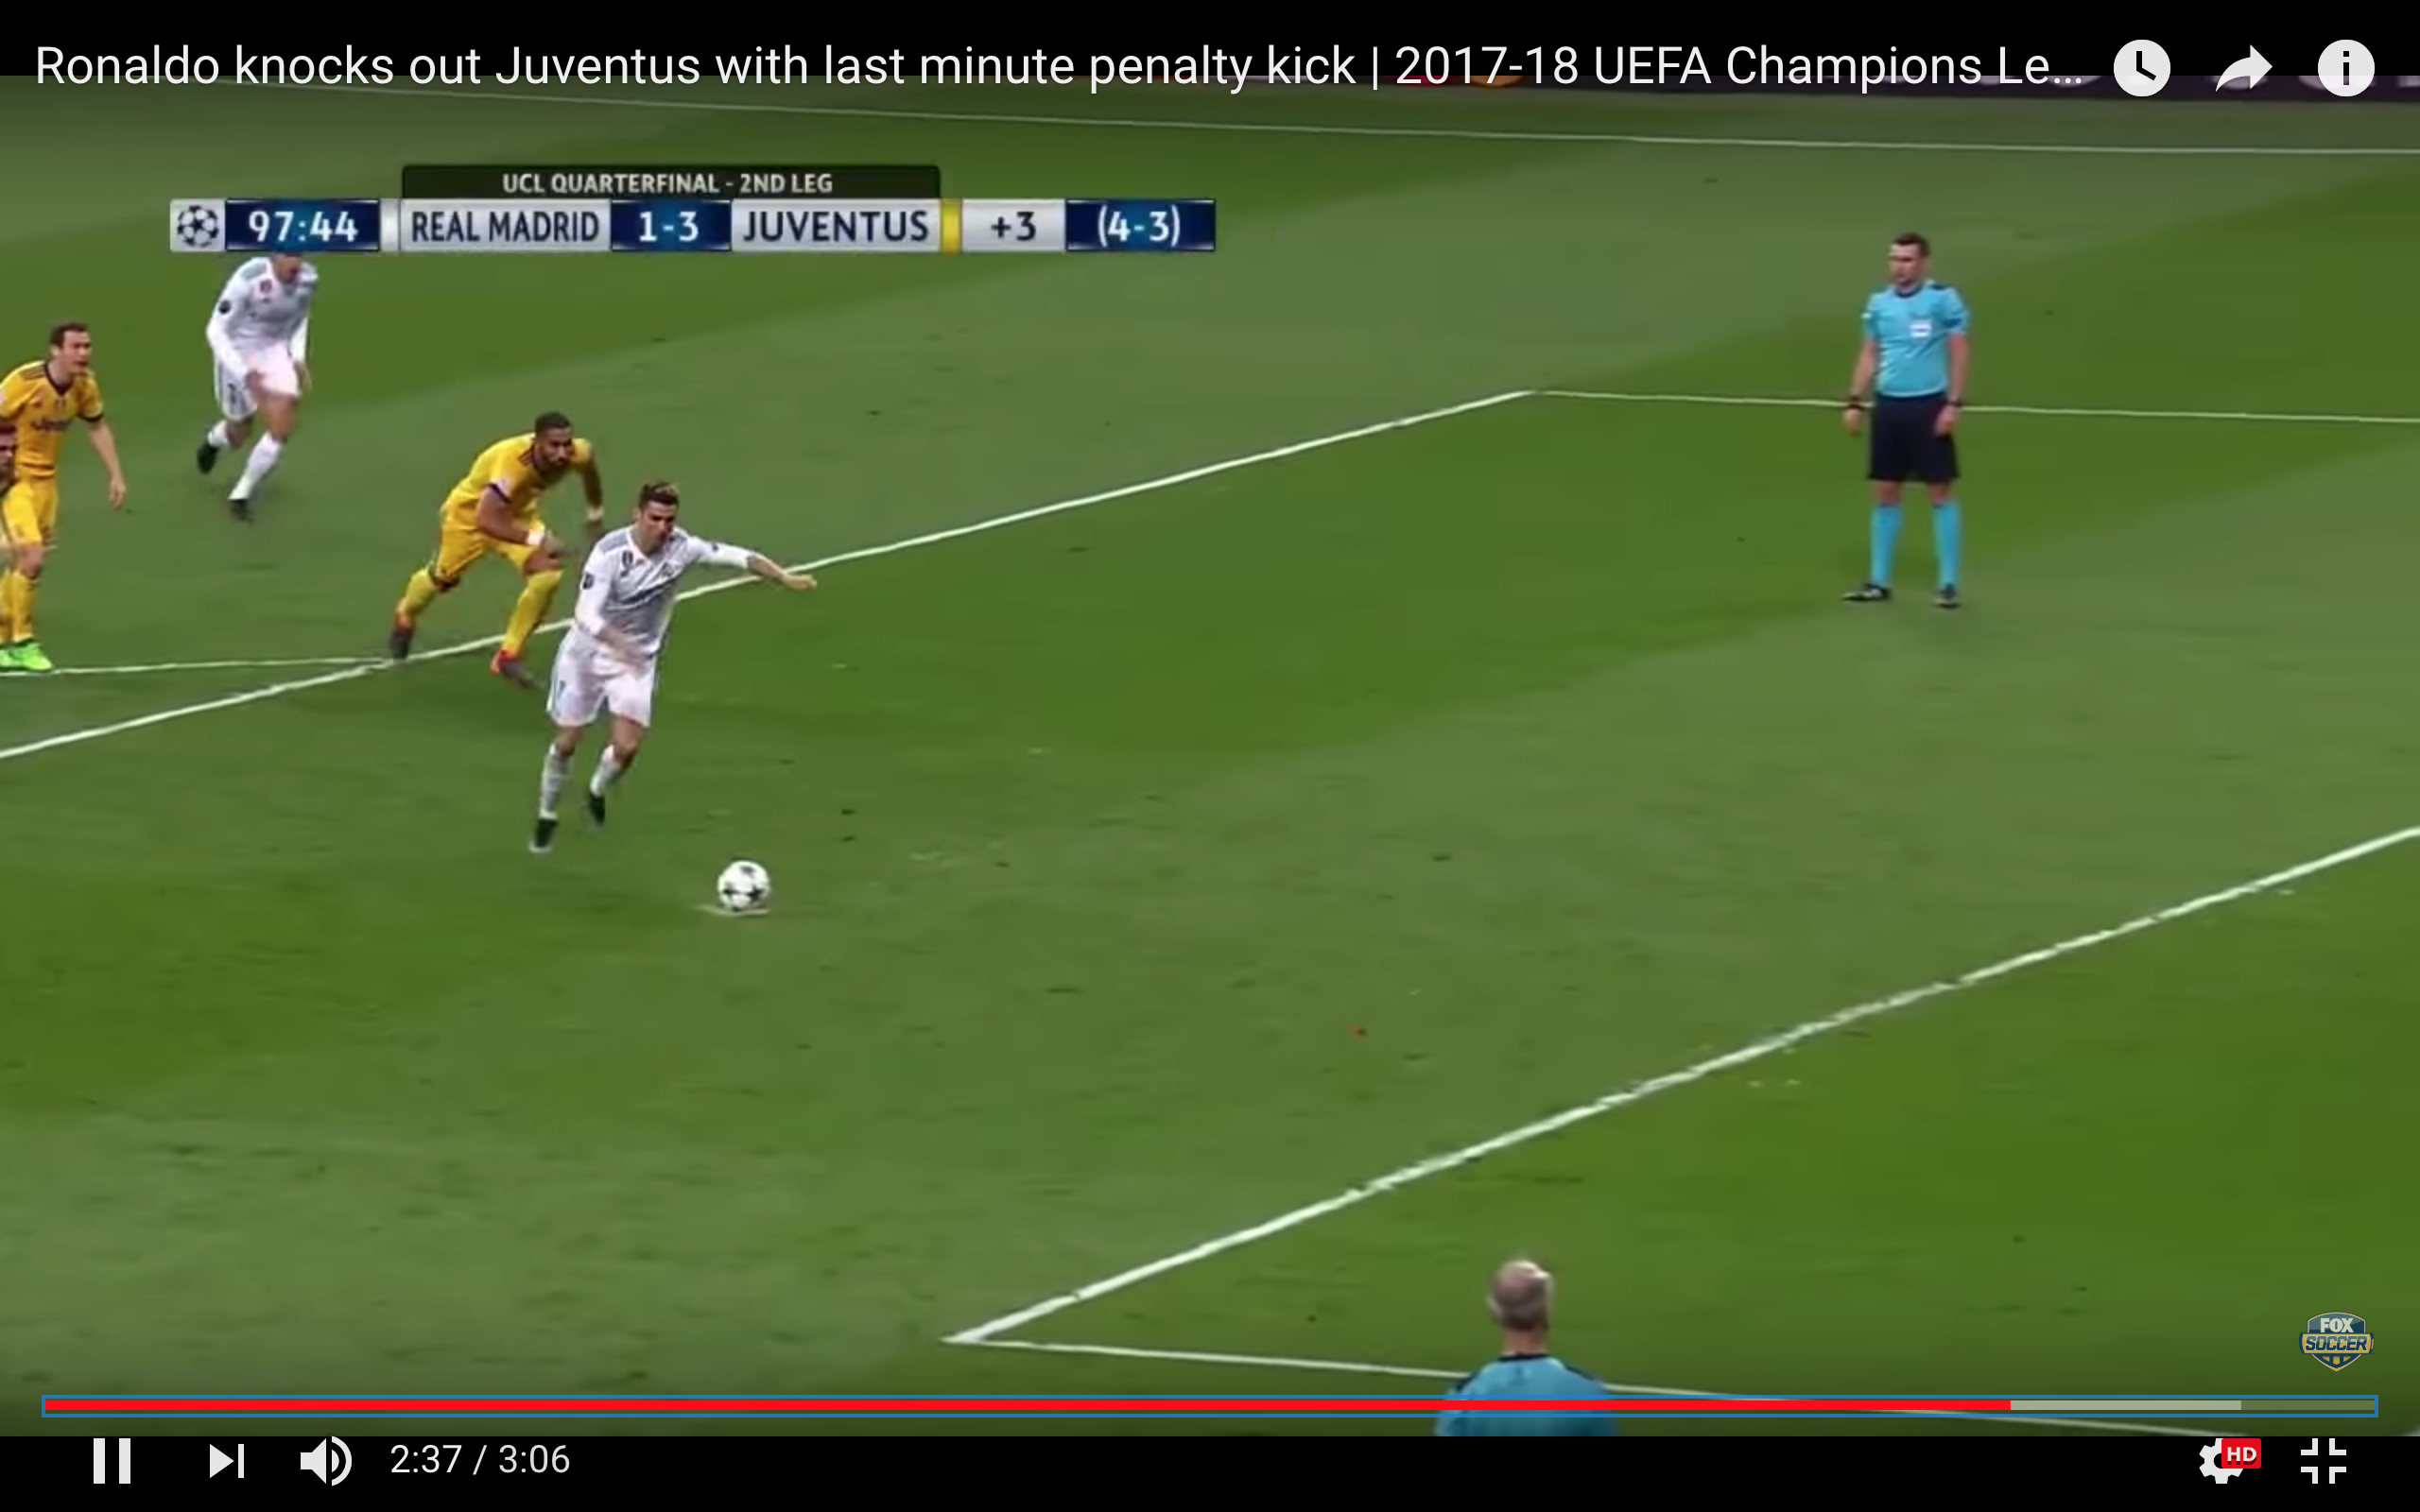referee: (1832, 234, 1980, 617), (1408, 1258, 1629, 1397)
soccer ball: (707, 851, 788, 919)
soccer player: (522, 475, 821, 859), (379, 404, 614, 692), (1, 314, 130, 680), (192, 253, 327, 530)
